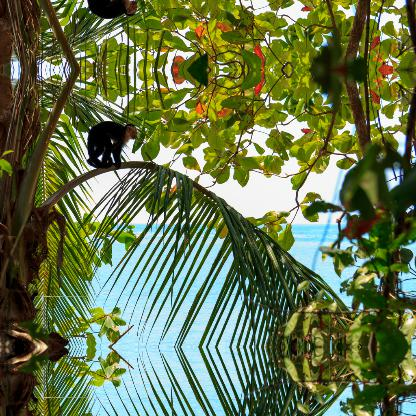Monkey: (83, 118, 135, 168), (83, 0, 136, 21)
